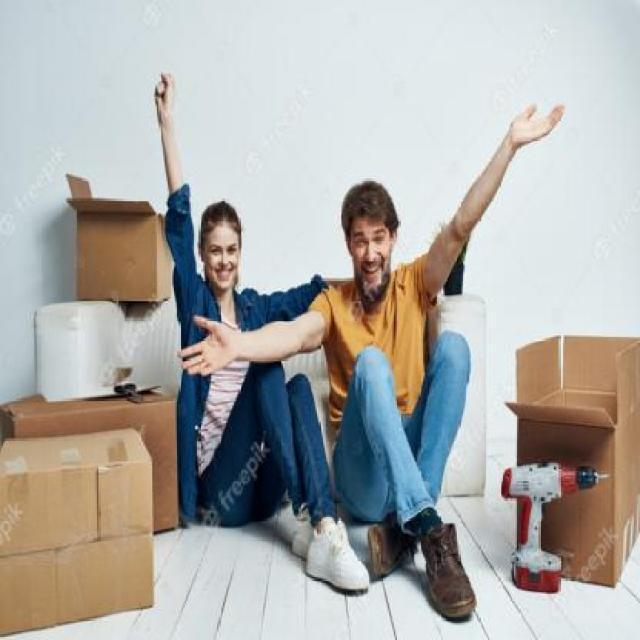box: (510, 326, 640, 598), (0, 440, 158, 640), (2, 393, 189, 538), (62, 178, 183, 306)
